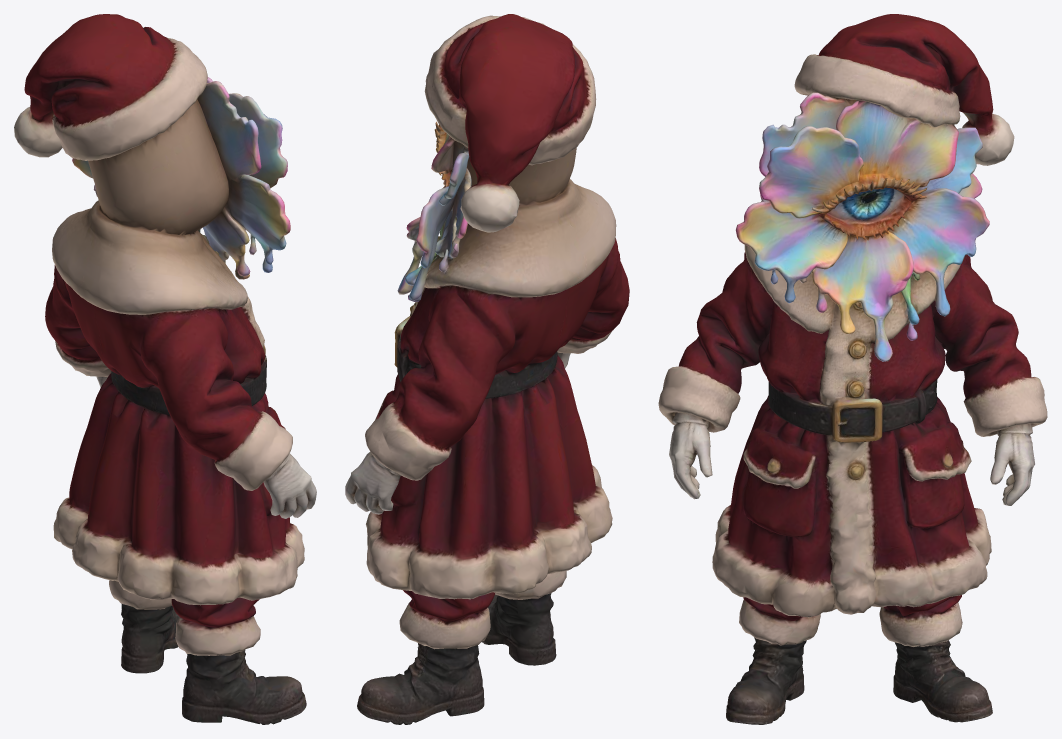
File: lt_santa_ef.glb
3 renders of one model, left to right at view 1: azimuth 30°, elevation 25°; view 2: azimuth 150°, elevation 25°; view 3: azimuth 270°, elevation 25°, orthographic. The views are drawn at different scales.
Parts seen in each view (by area): view 1: tripo_node_9ce56338-dfc6-40b8-ab36-d2897d8e8072; view 2: tripo_node_9ce56338-dfc6-40b8-ab36-d2897d8e8072; view 3: tripo_node_9ce56338-dfc6-40b8-ab36-d2897d8e8072.
Part boxes in pixels (left/top/right/bottom): tripo_node_9ce56338-dfc6-40b8-ab36-d2897d8e8072: left=14, top=14, right=316, bottom=724; tripo_node_9ce56338-dfc6-40b8-ab36-d2897d8e8072: left=345, top=14, right=629, bottom=724; tripo_node_9ce56338-dfc6-40b8-ab36-d2897d8e8072: left=658, top=14, right=1047, bottom=724.
Bounding box in the file's own units: 0.3349 × 1 × 0.5373.
Materials: 1 (1 with a texture image).
